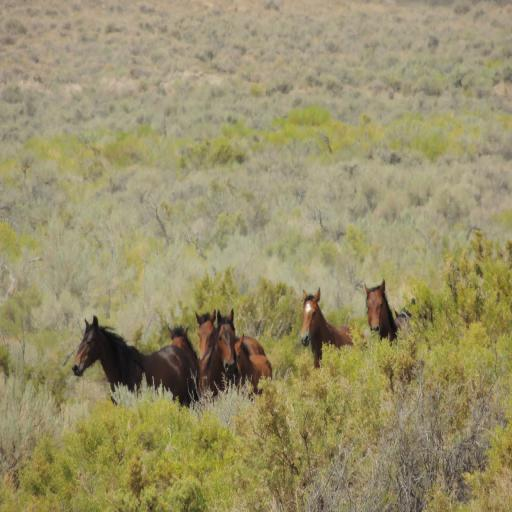horse: (70, 312, 196, 408), (300, 286, 366, 368), (364, 277, 431, 346), (194, 310, 242, 402), (196, 309, 266, 361), (234, 332, 272, 394), (166, 324, 200, 368)
